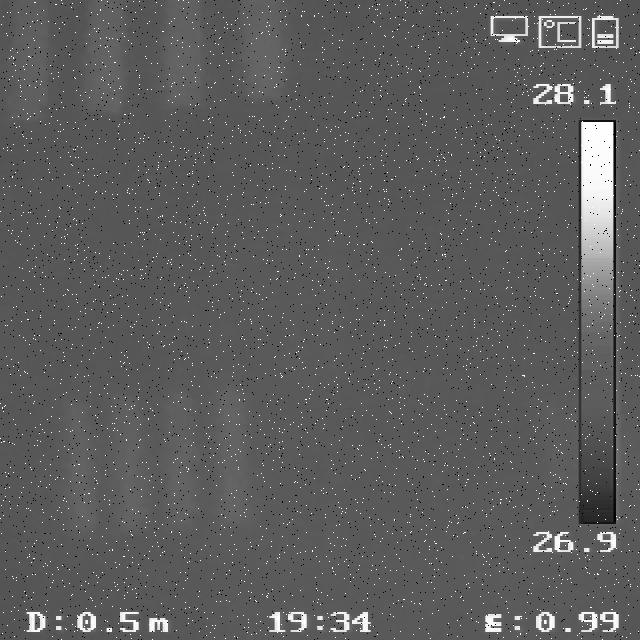Distinguishable 4-bar target: (4, 0, 297, 102)
threshold 4-bar target: (62, 389, 258, 529)
